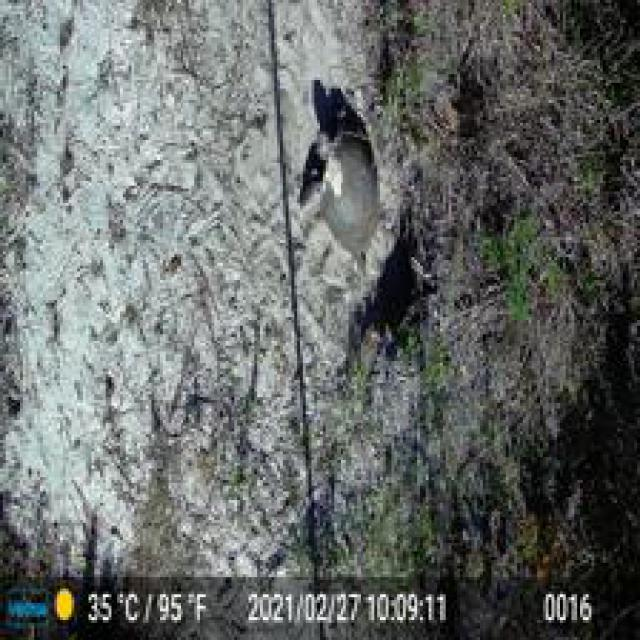tortoise: (300, 120, 386, 271)
